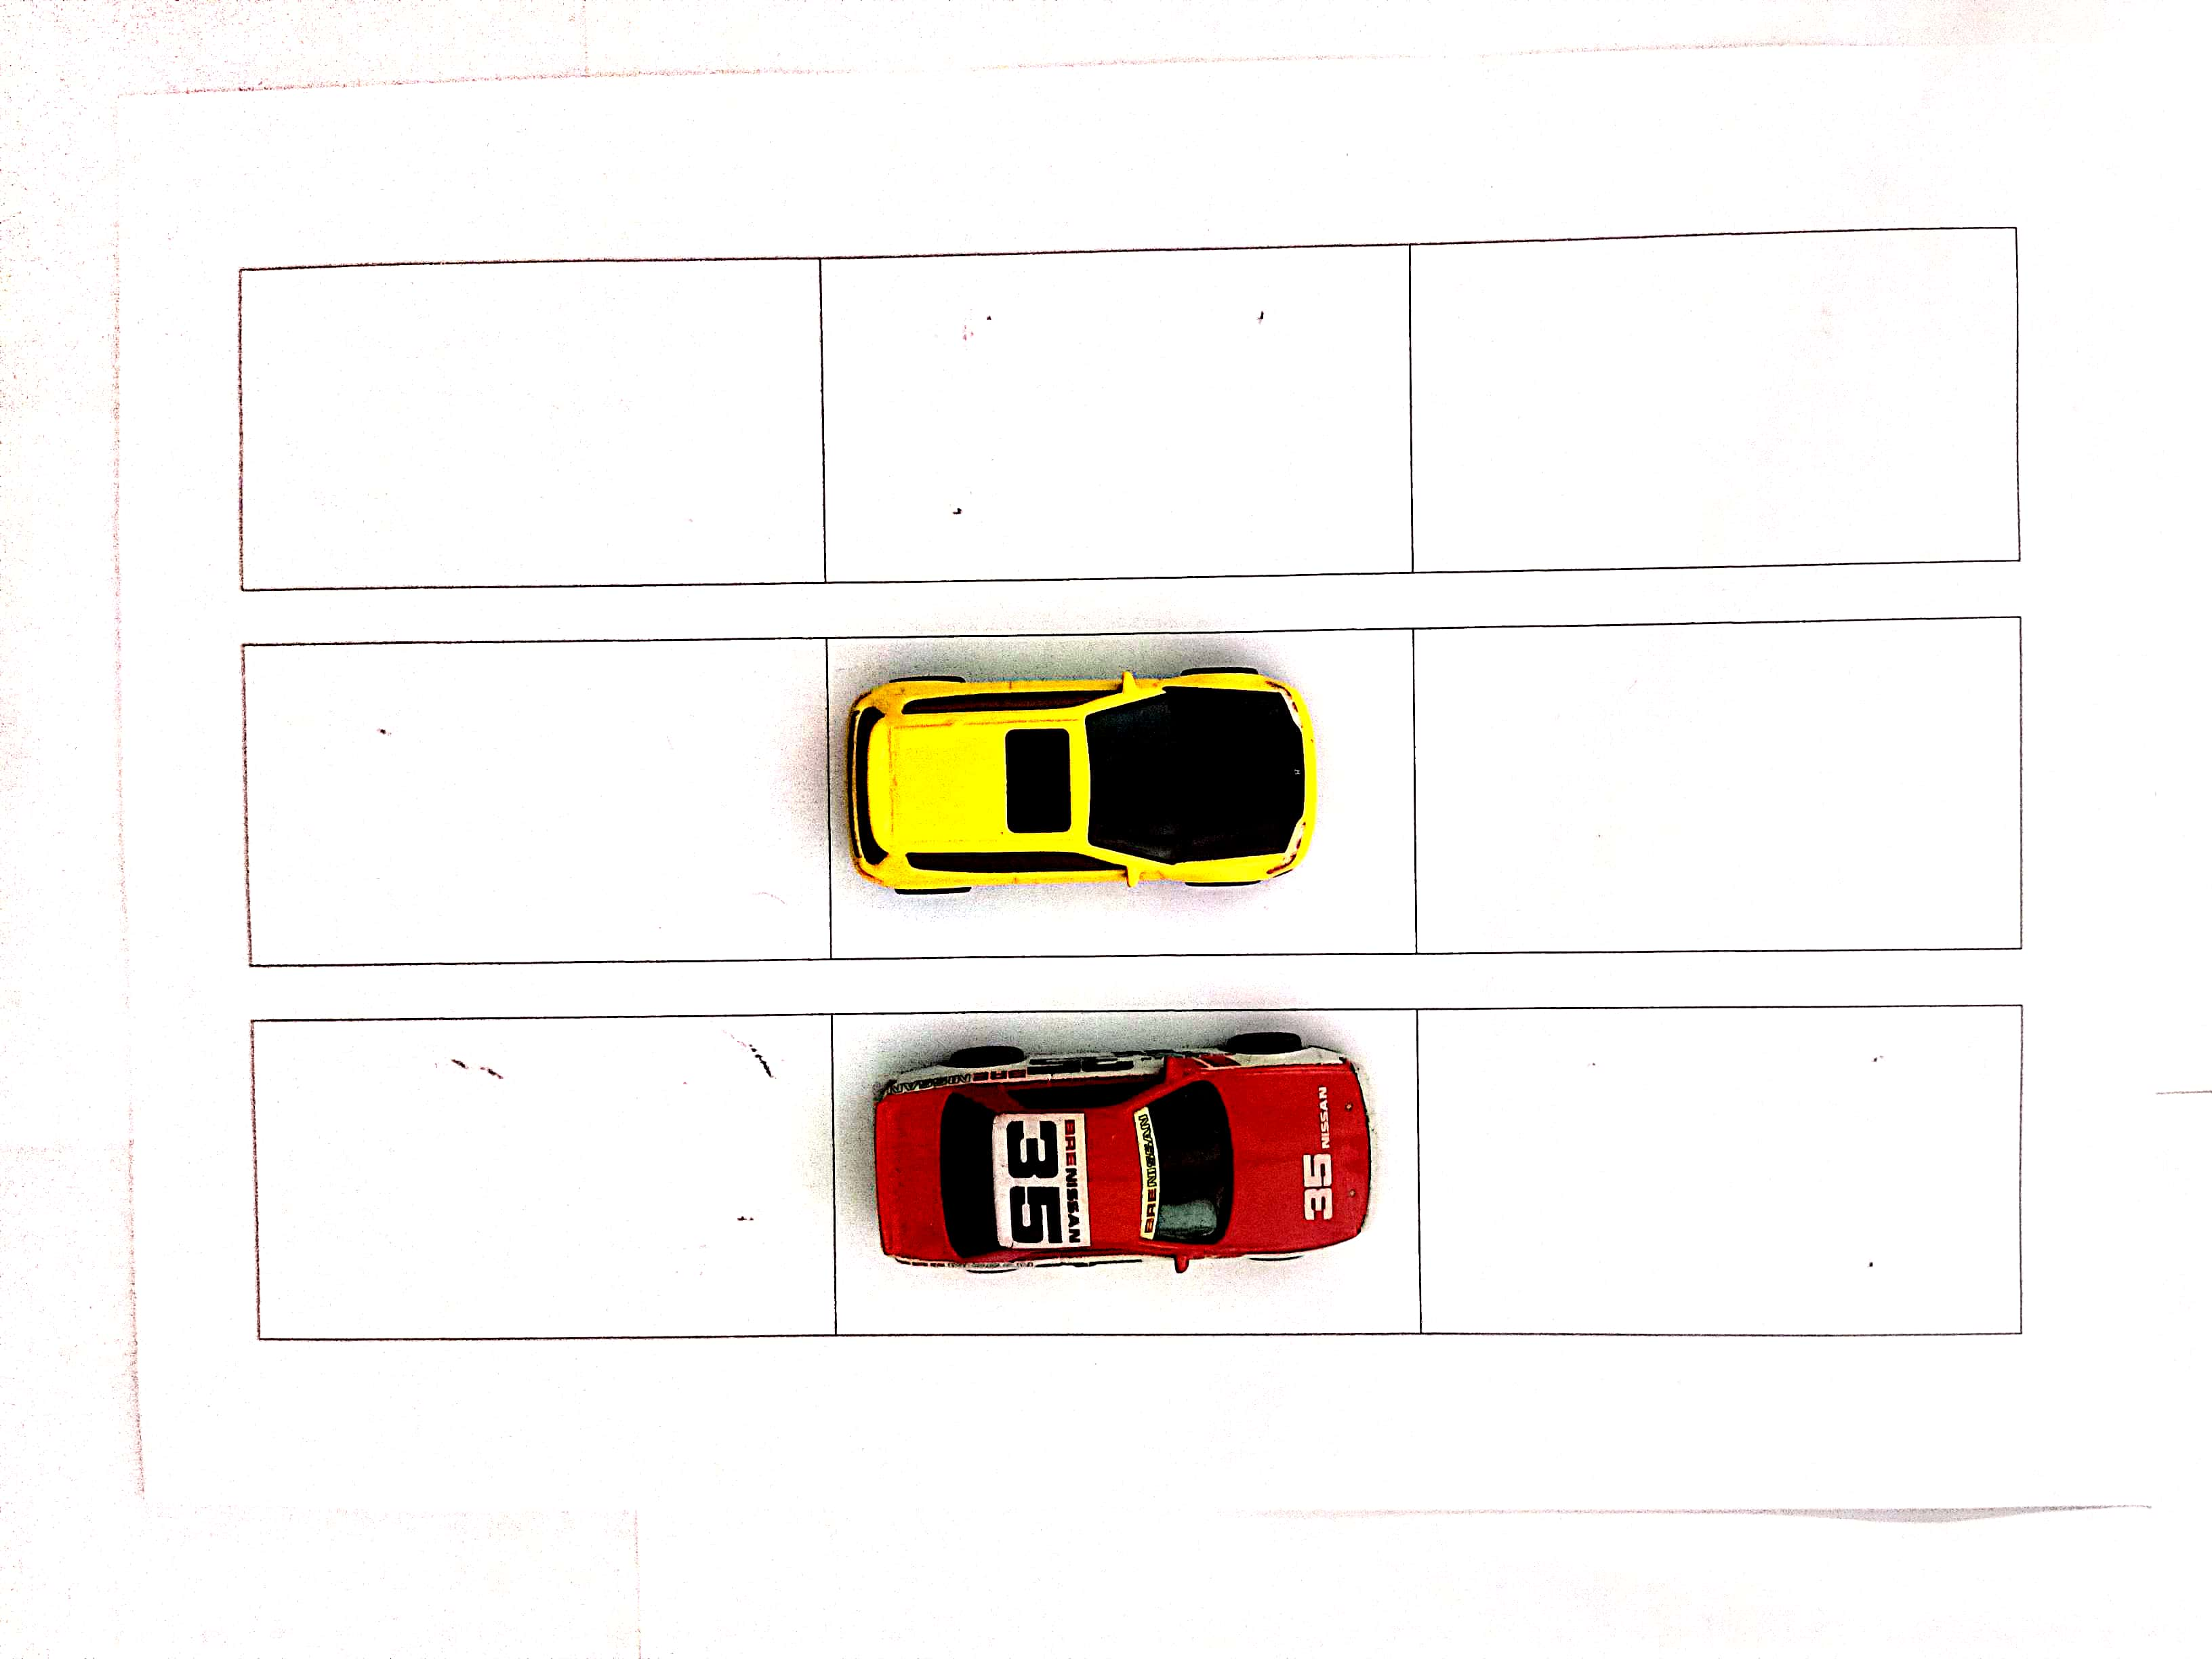Busy: (824, 634, 1421, 951), (834, 1019, 1418, 1337)
Free: (1409, 228, 2012, 570), (1414, 619, 2026, 951), (1418, 1000, 2022, 1333), (827, 240, 1409, 575), (247, 638, 827, 962), (244, 274, 824, 586), (258, 1019, 834, 1333)
